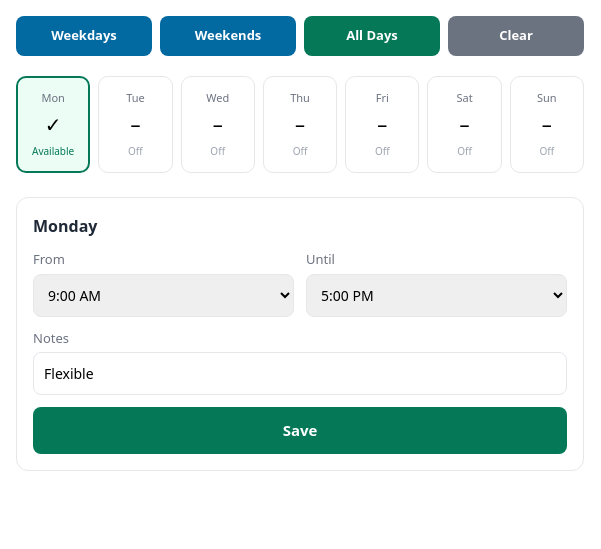
Test: PlayerAvailability › handles save errors
Expected: the heading "Monday" is shown, 33,214 -> 97,238
Click the button "Save": (300, 430) 33,407 -> 567,454
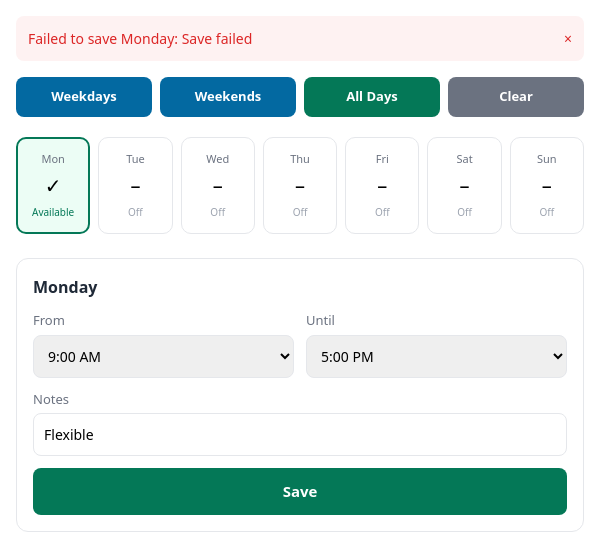
Result: the text "Failed to save Monday: Save failed ×" is shown at 16,16 -> 584,61
